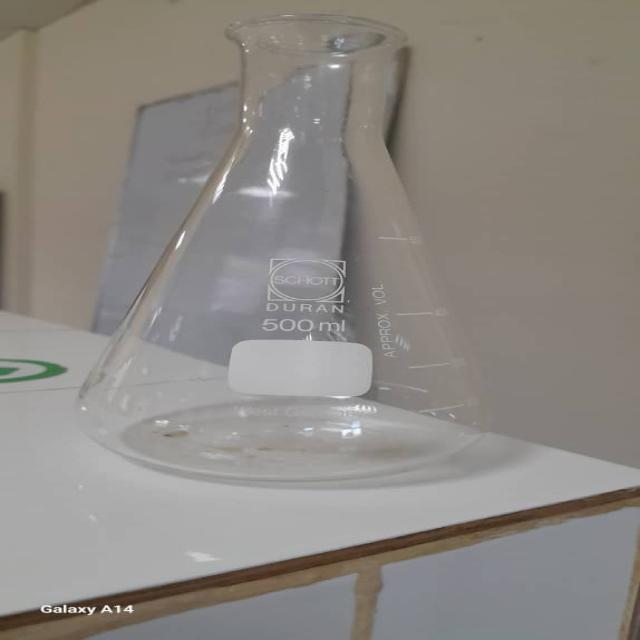Conical Flask: (65, 10, 505, 485)
